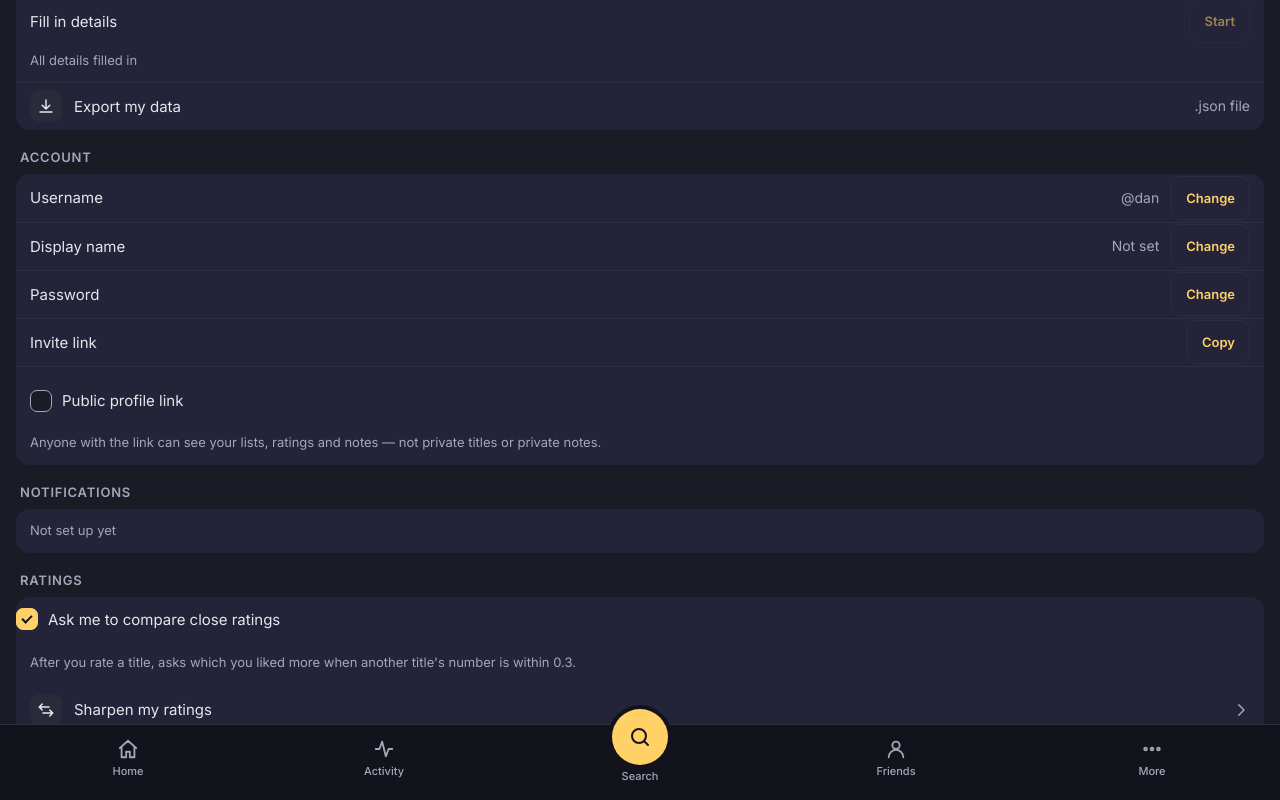
it: Settings > Public profile link › no Share button when the device cannot share
(page scrolled)
Click the switch labelled "Public profile link". click: (41, 401)
box: [30, 390, 52, 412]
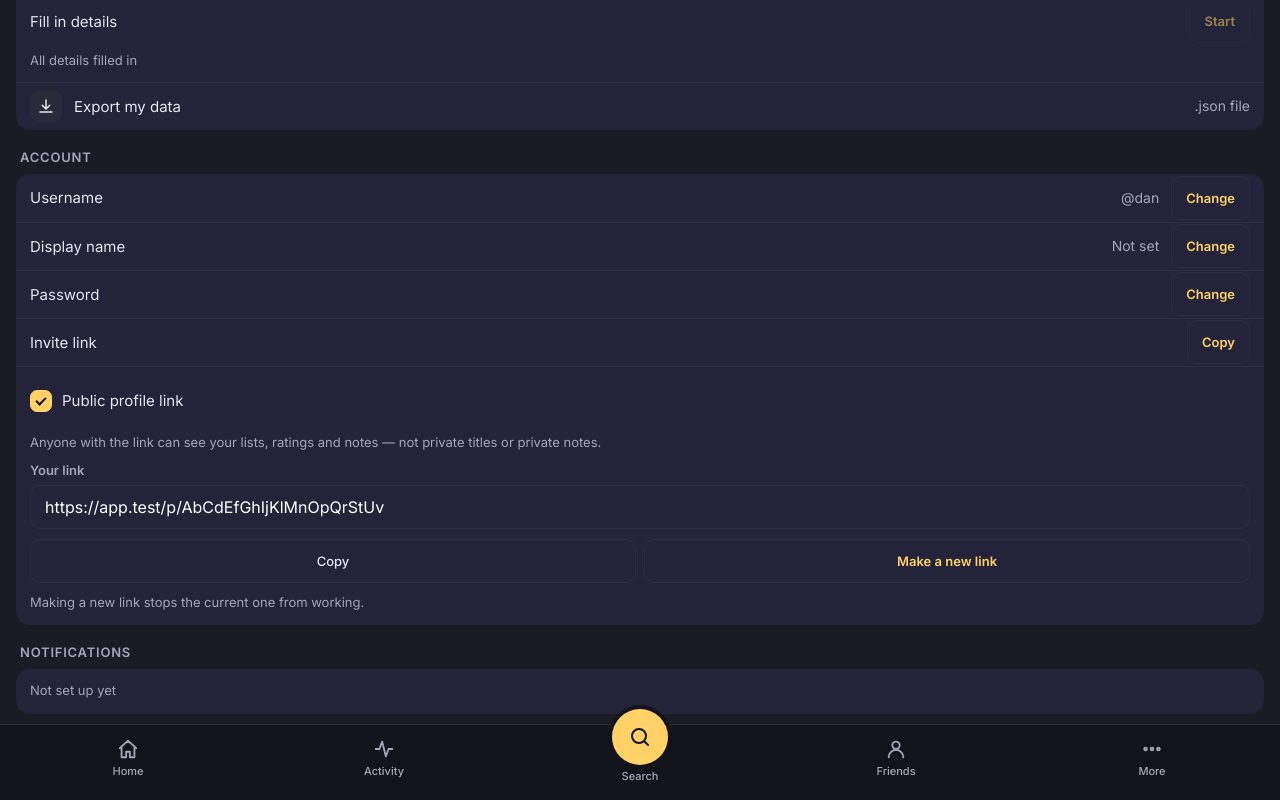
Now the field showing "https://app.test/p/AbCdEfGhIjKlMnOpQrStUv" is shown, box [43, 486, 1237, 528]
